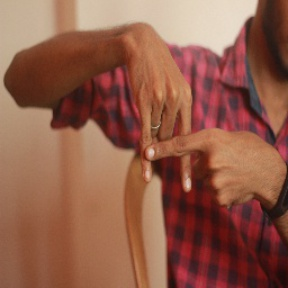H: (113, 81, 235, 201)
